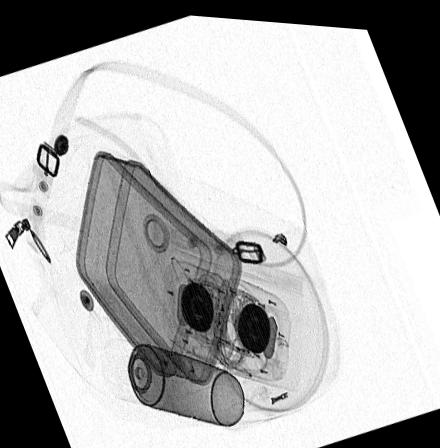Sprayer: (101, 336, 244, 421)
